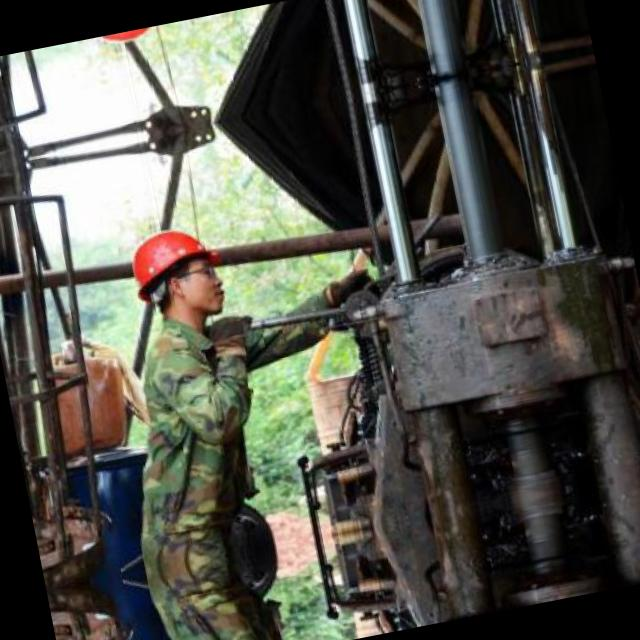helmet: (113, 210, 236, 336), (76, 22, 185, 62)
